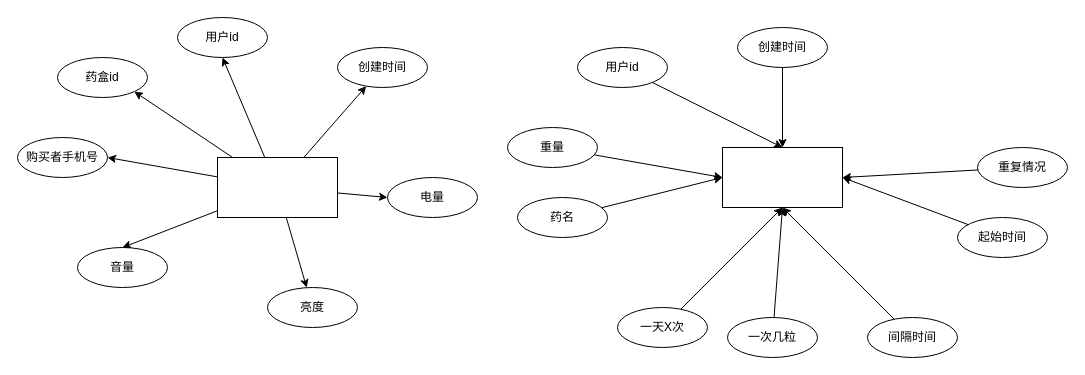
Some shapes in this 1085 by 375 pixel diagram are drawn without their labels. Each missing label, with the centre of its shape:
药仓N: (x=782, y=177)
药盒: (x=277, y=187)
